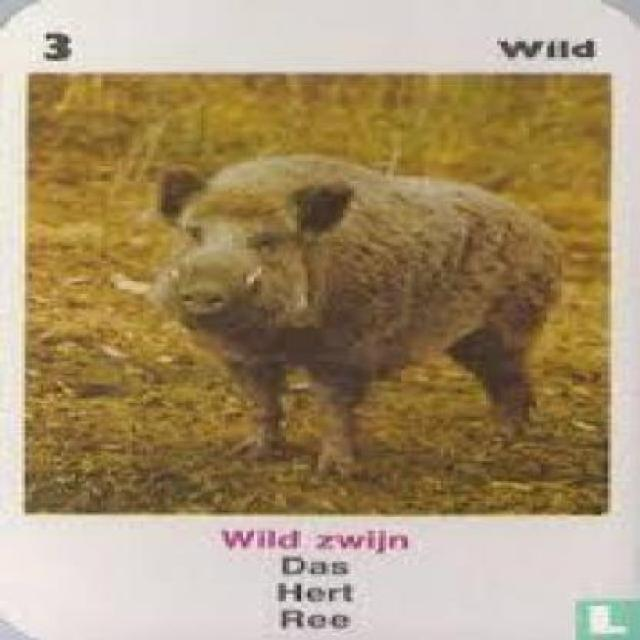wildboar: (111, 151, 571, 474)
